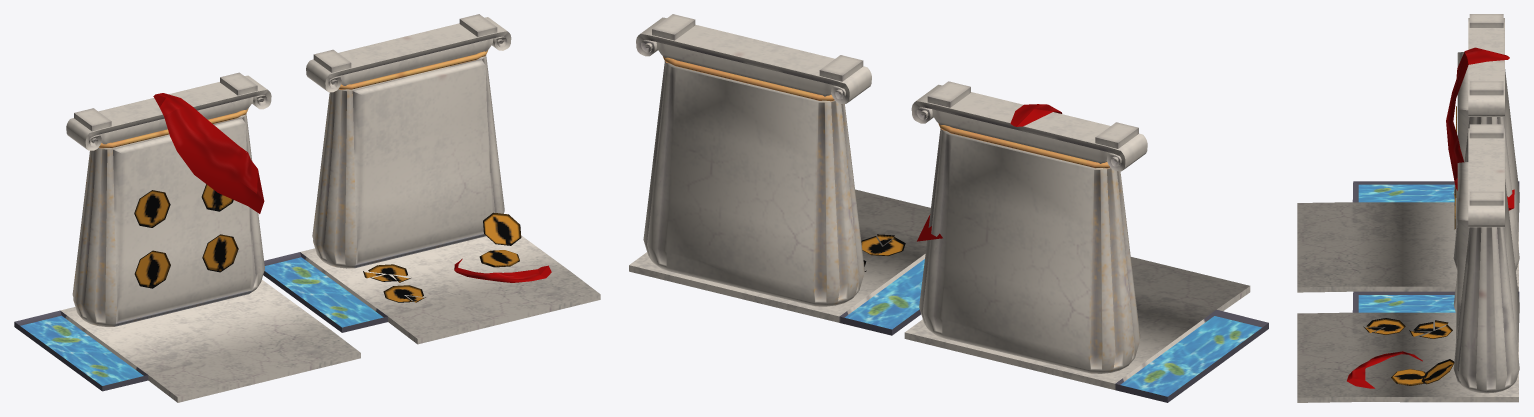
The model's file is platesholder.fbx.
The picture shows the model from 3 angles, left to right: view 1: azimuth 30°, elevation 25°; view 2: azimuth 150°, elevation 25°; view 3: azimuth 270°, elevation 25°; orthographic projection. The views are drawn at different scales.
Visible parts, largest first — view 1: plates_fixed, plates_broken1; view 2: plates_fixed, plates_broken1; view 3: plates_broken1, plates_fixed.
Boxes of the visible parts, <box> form: plates_fixed: <box>14,72,360,402</box>; plates_broken1: <box>263,14,600,344</box>; plates_fixed: <box>904,81,1268,402</box>; plates_broken1: <box>629,14,930,335</box>; plates_broken1: <box>1297,124,1519,402</box>; plates_fixed: <box>1297,14,1519,292</box>.
Size of the model in its own units: 806 by 345 by 350.
Materials: 1 (1 with a texture image).
